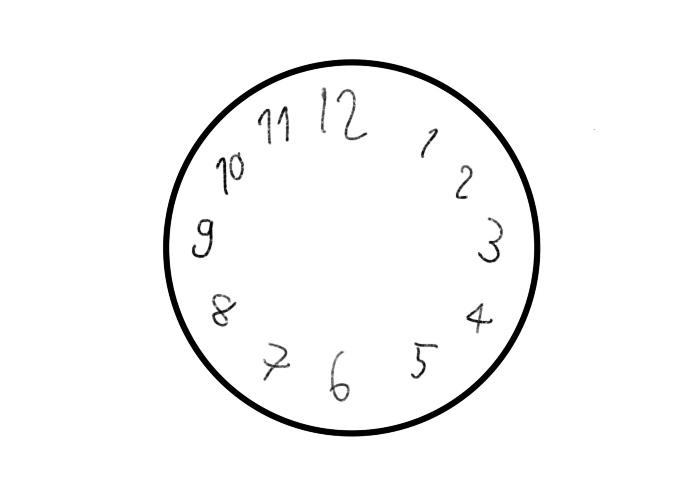eight: (209, 285, 237, 331)
eleven: (256, 107, 294, 145)
five: (411, 340, 441, 381)
four: (463, 298, 494, 336)
nine: (186, 213, 216, 259)
one: (422, 120, 440, 161)
seven: (259, 338, 295, 389)
six: (329, 342, 350, 408)
ten: (213, 151, 249, 197)
three: (477, 210, 504, 265)
twelve: (317, 82, 367, 141)
two: (455, 156, 477, 202)
